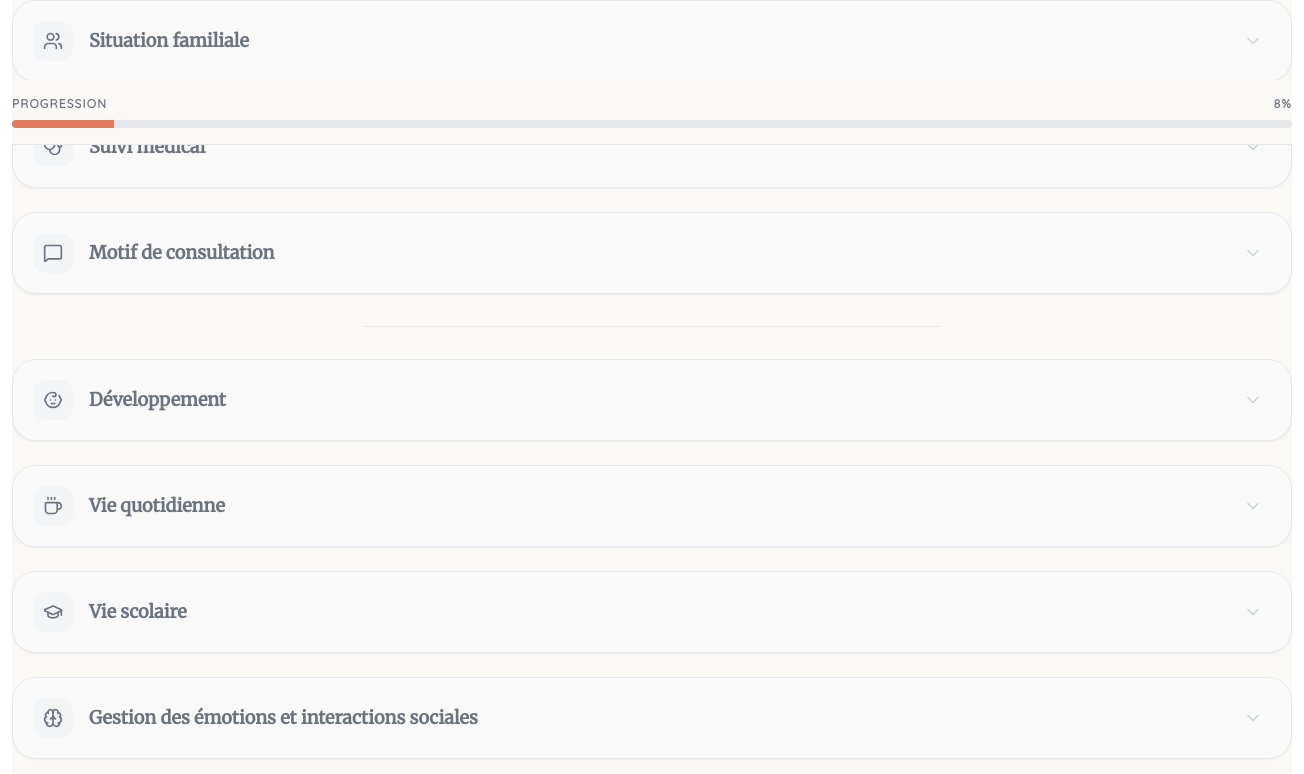
SharedQuestionnaire : retours de la testeuse sur le questionnaire parents › pose des questions dans la case Grossesse & Naissance (#95)
(page scrolled)
Click the button "Développement". click: (53, 400)
box: top-left (13, 360), bottom-right (1291, 440)
(page scrolled)
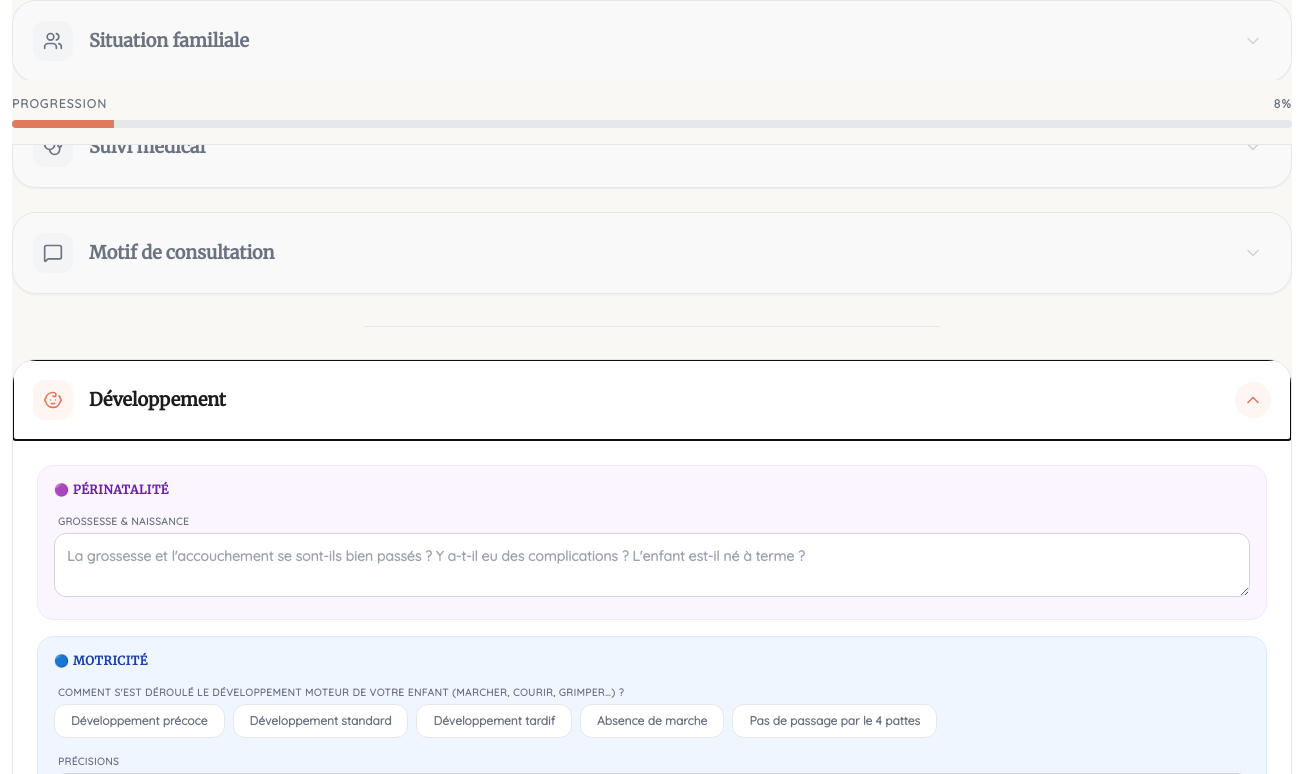
Check: the text box with placeholder "La grossesse et l'accouchement se sont-ils bien passés ?" is shown, box top-left (54, 533), bottom-right (1250, 597)
